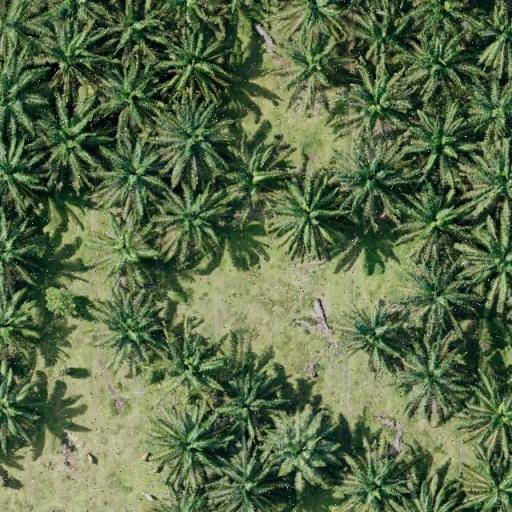Ganoderma: (102, 226, 146, 266)
